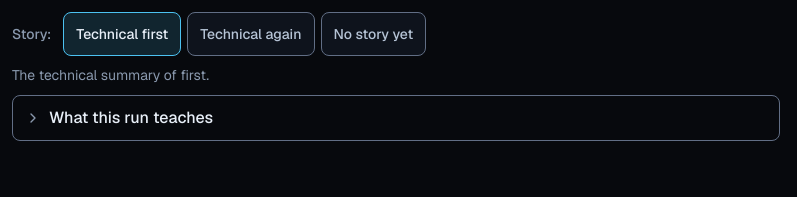
Test: StoryPicker in Full detail › uses the technical titles and the summary, with what the run teaches
This screenshot has width=797, height=197.
Check: the button "Technical first" is shown, box x1=63 y1=12 x2=181 y2=56
Check: the text "The technical summary of first." is shown, box x1=12 y1=66 x2=209 y2=84
Click the heading "What this run teaches" at (119, 117), box x1=25 y1=107 x2=213 y2=128
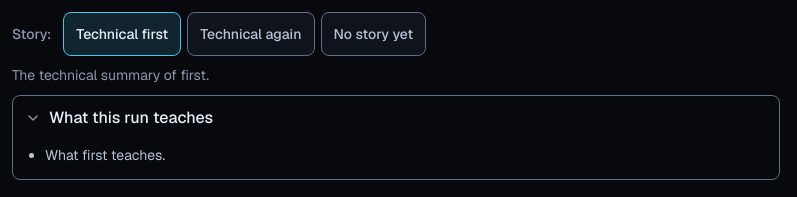
Check: the list item "What first teaches." is shown, box x1=45 y1=146 x2=165 y2=164
